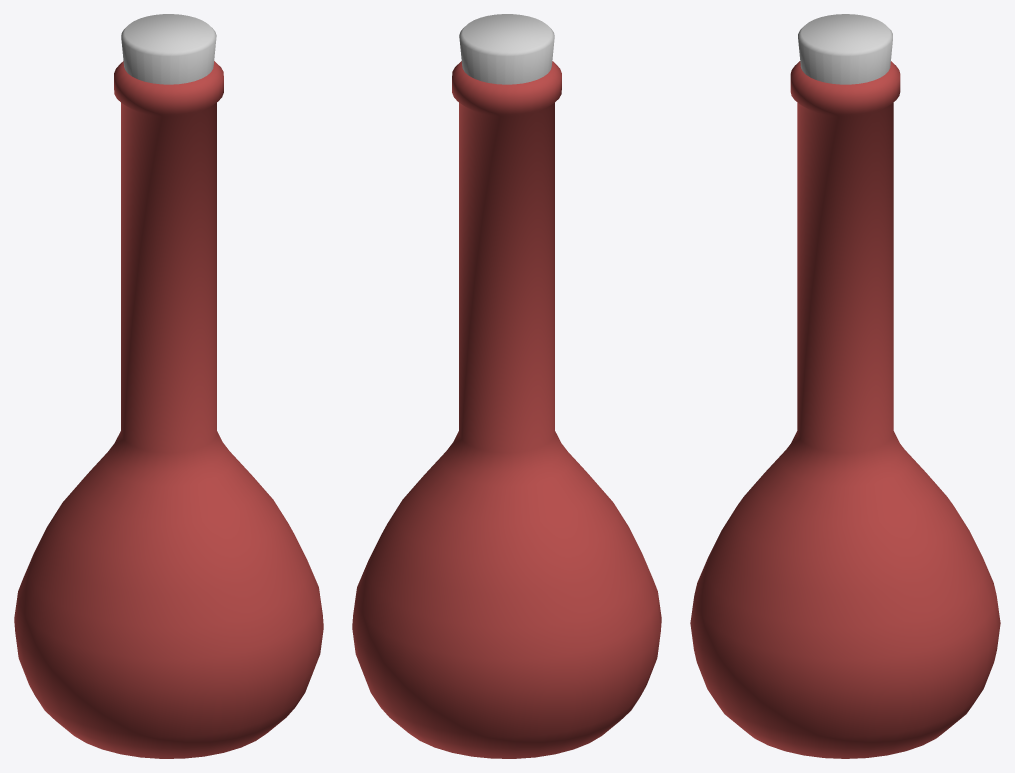
Rendered from Flask volumetric.fbx.
The picture shows the model from 3 angles, left to right: view 1: azimuth 30°, elevation 25°; view 2: azimuth 150°, elevation 25°; view 3: azimuth 270°, elevation 25°; orthographic projection.
Parts seen in each view (by area): view 1: Flask volumetric; view 2: Flask volumetric; view 3: Flask volumetric.
Part boxes in pixels (box(x1,y1,x2,y2)): Flask volumetric: box(14, 14, 323, 758); Flask volumetric: box(352, 14, 661, 758); Flask volumetric: box(690, 14, 1000, 758).
Bounding box in the file's own units: 146 × 359 × 146.
